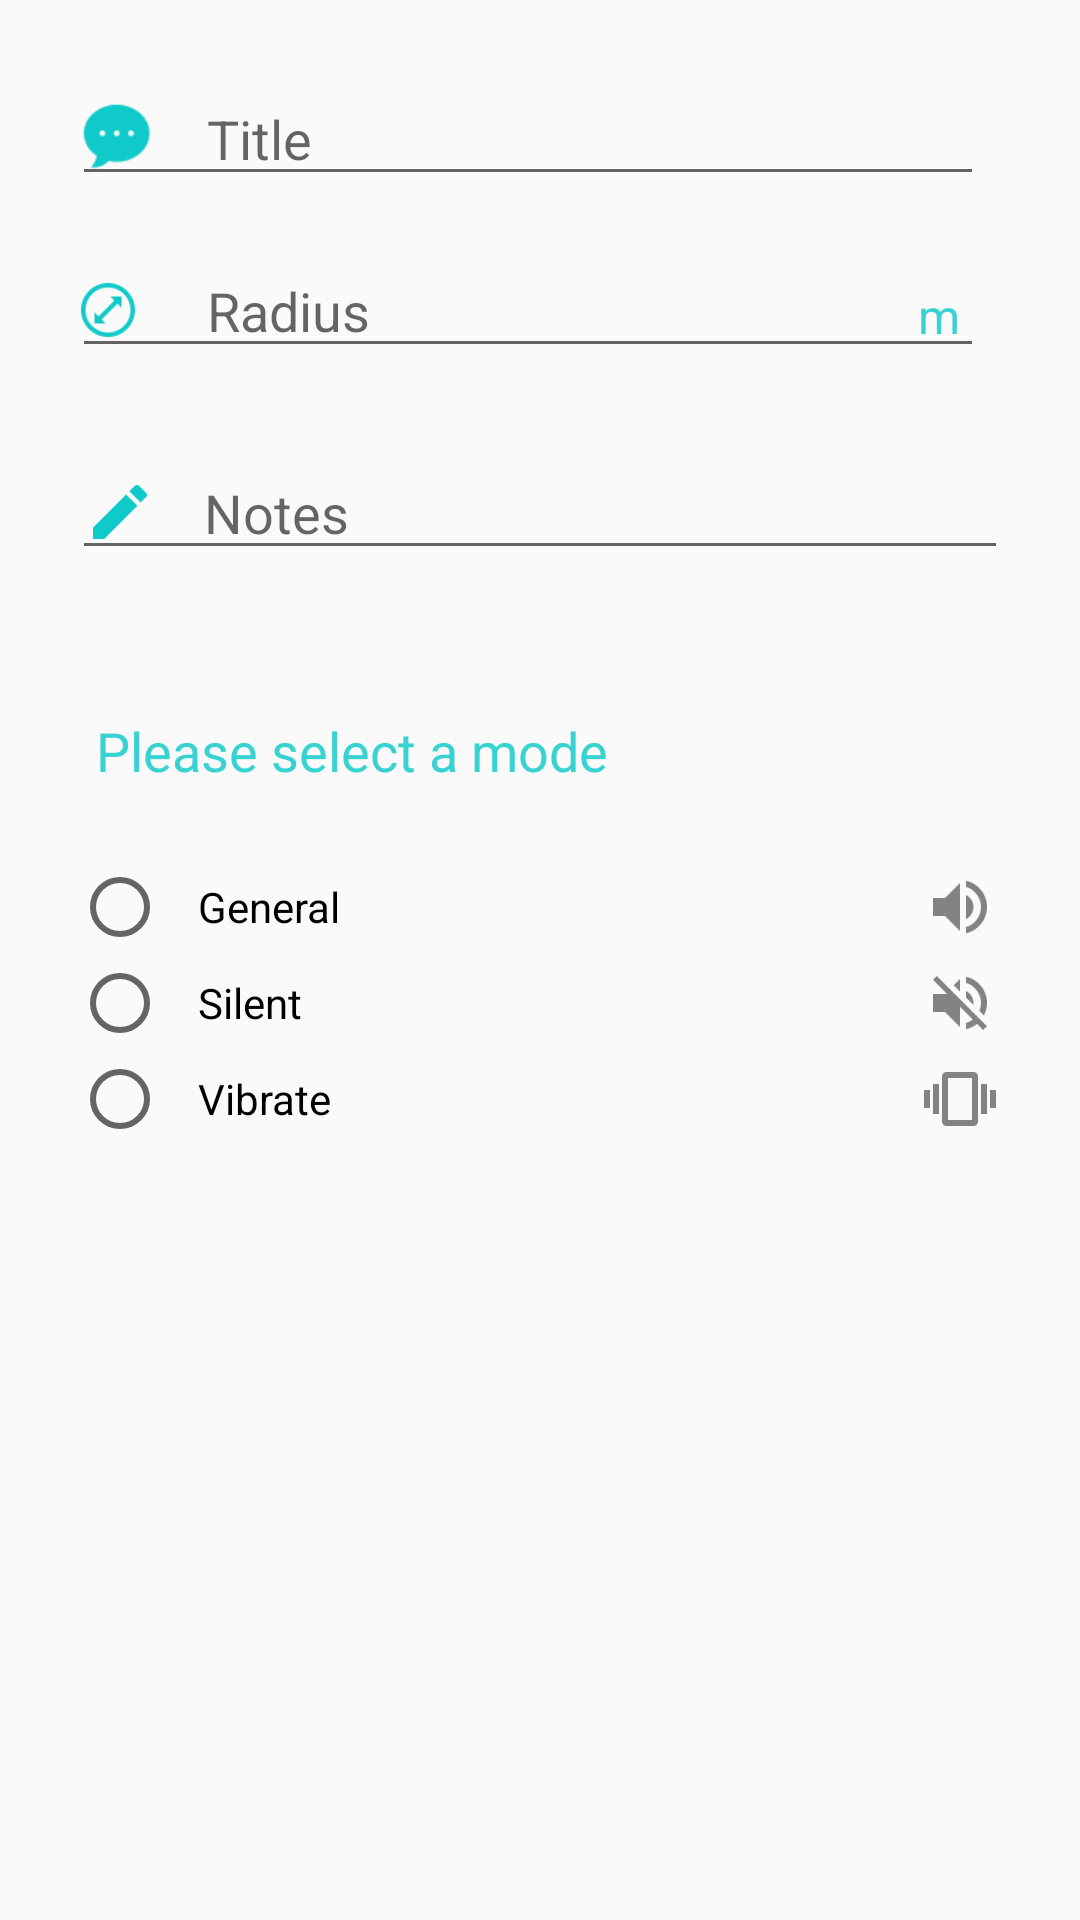

Where icons sit on this 1080*1920 app screen, as detection(x1, y1, x2, y2):
diameter: detection(81, 283, 135, 337)
